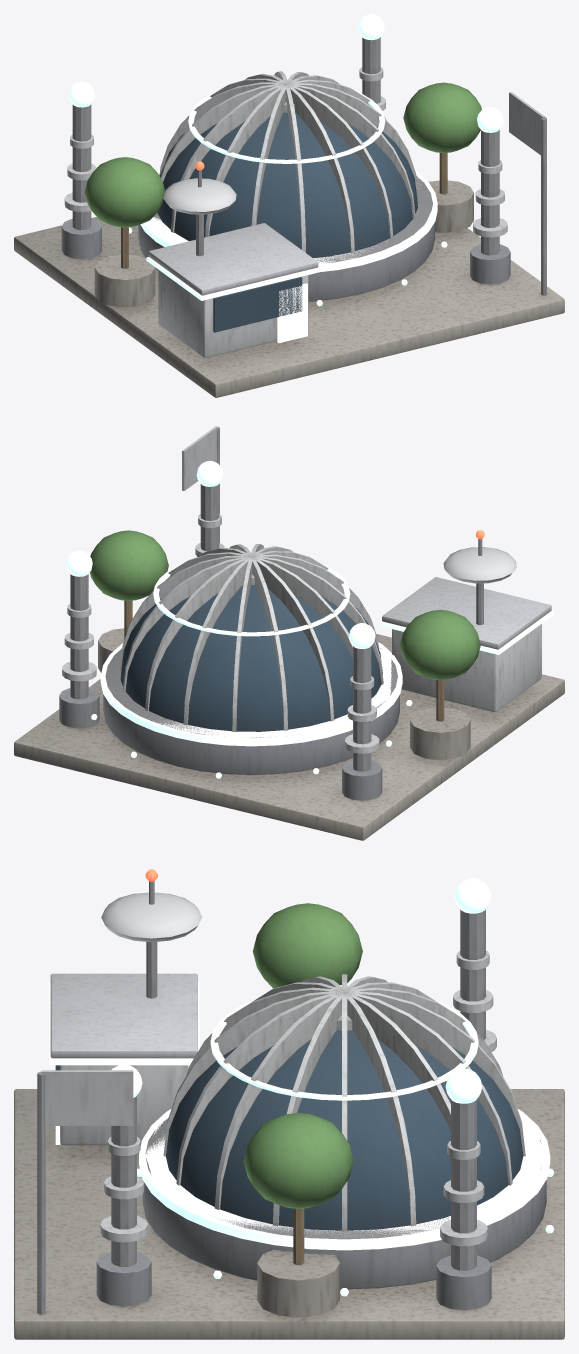
Rendered from west_tech.glb.
3 views of the same model, one above another, from view 1: azimuth 30°, elevation 25°; view 2: azimuth 150°, elevation 25°; view 3: azimuth 270°, elevation 25° (orthographic). The views are drawn at different scales.
Parts seen in each view (by area): view 1: Hull, Spin; view 2: Hull, Spin; view 3: Hull, Spin.
Part boxes in pixels (<box>): Hull: <box>14,14,564,397</box>; Spin: <box>163,161,236,214</box>; Hull: <box>14,426,564,840</box>; Spin: <box>443,530,516,583</box>; Hull: <box>14,878,564,1339</box>; Spin: <box>101,869,201,942</box>.
Size of the model in its own units: 6.6 by 4.15 by 6.
14 materials, 11 textured.
